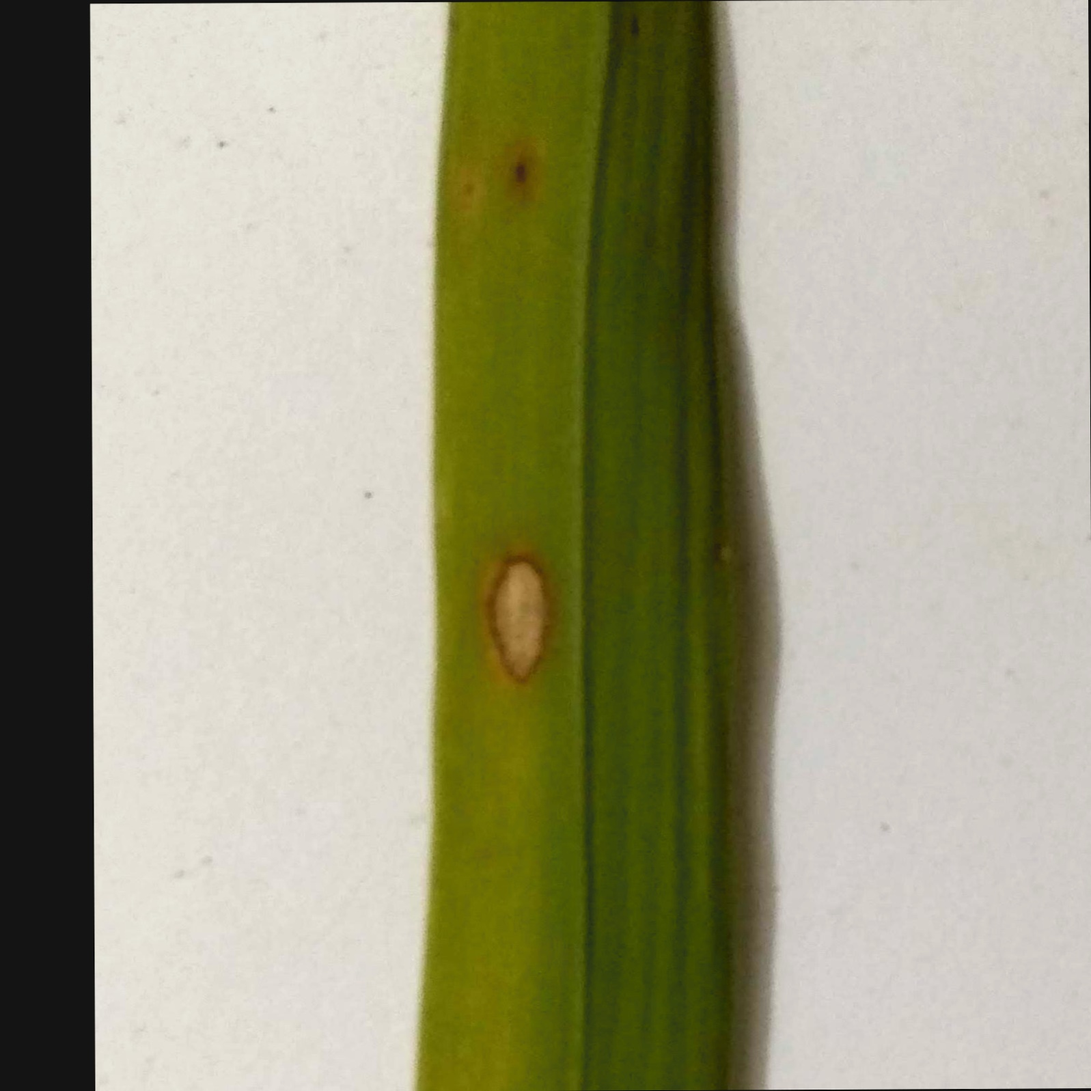Brown_Spot: (473, 525, 573, 688)
